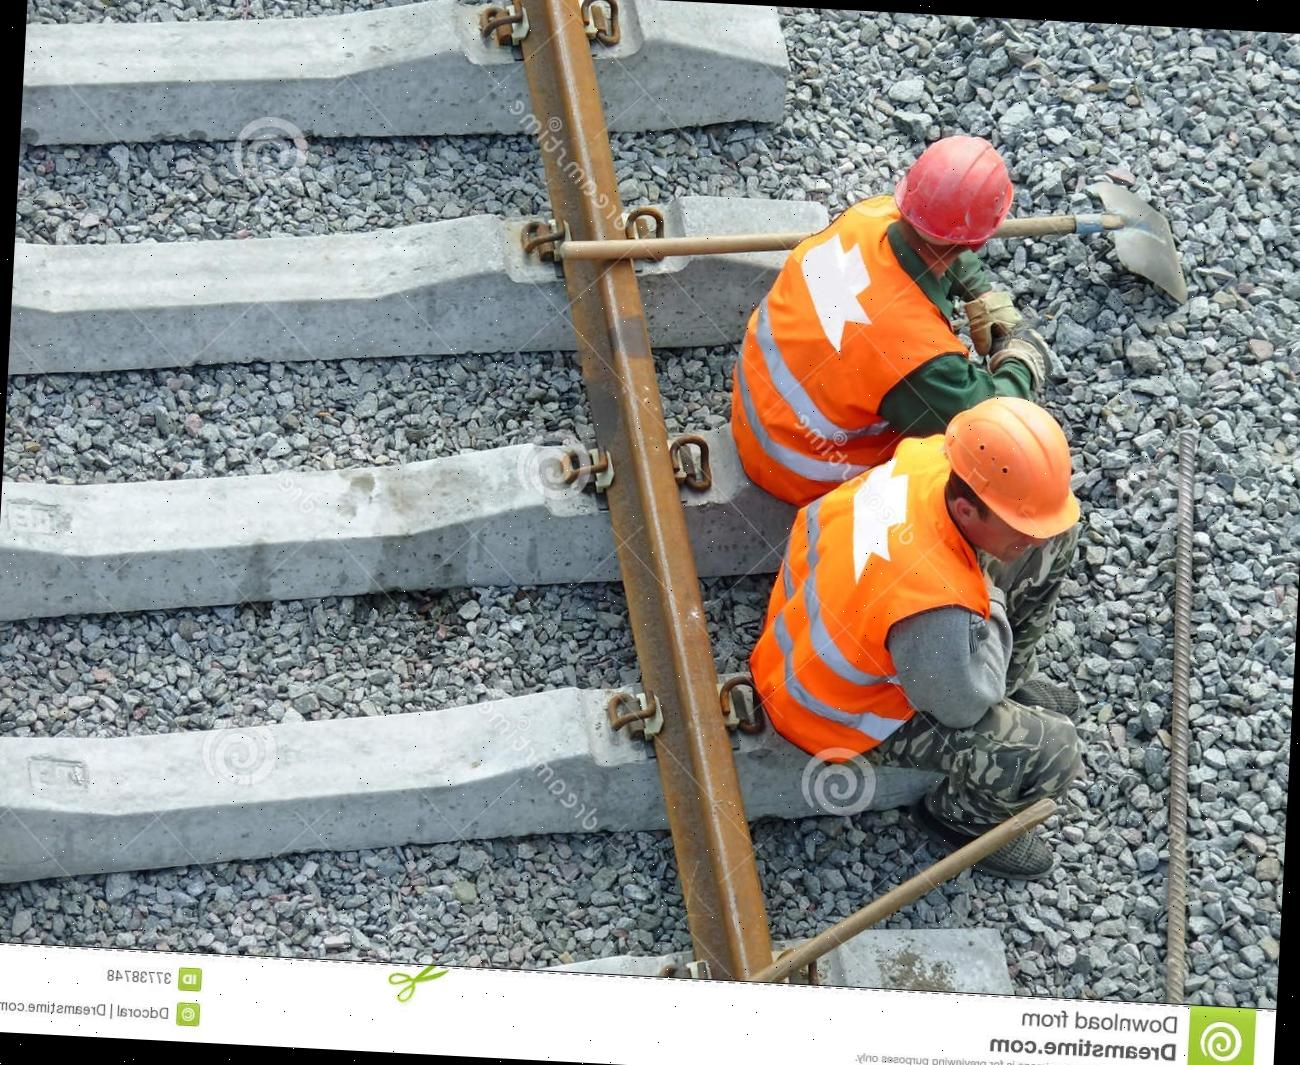helmet: (937, 388, 1092, 545), (889, 129, 1016, 253)
wear: (756, 445, 943, 756), (734, 208, 912, 460)
